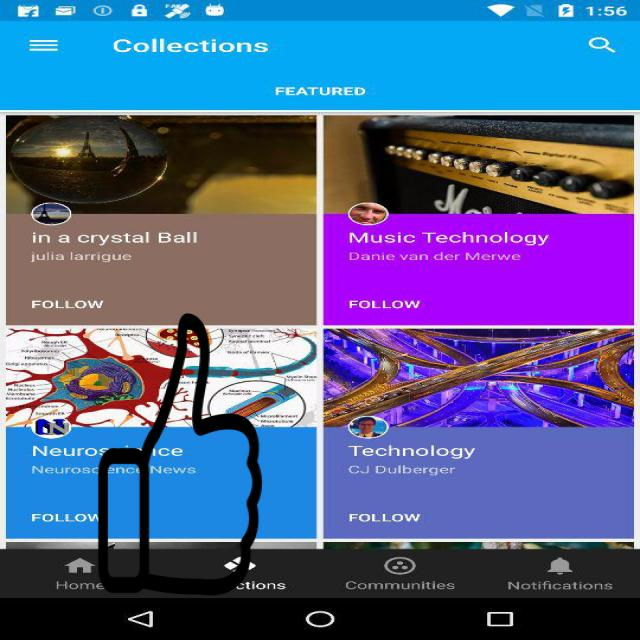privacy zuckering: (96, 314, 264, 596)
